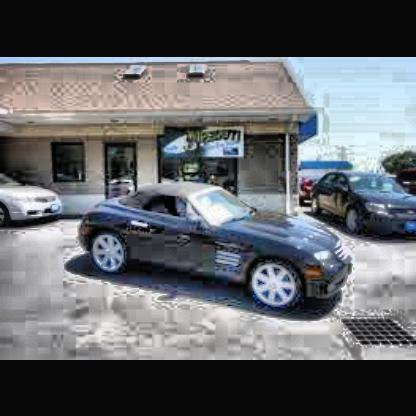Chrysler Crossfire Convertible 2008: (80, 184, 353, 321)
